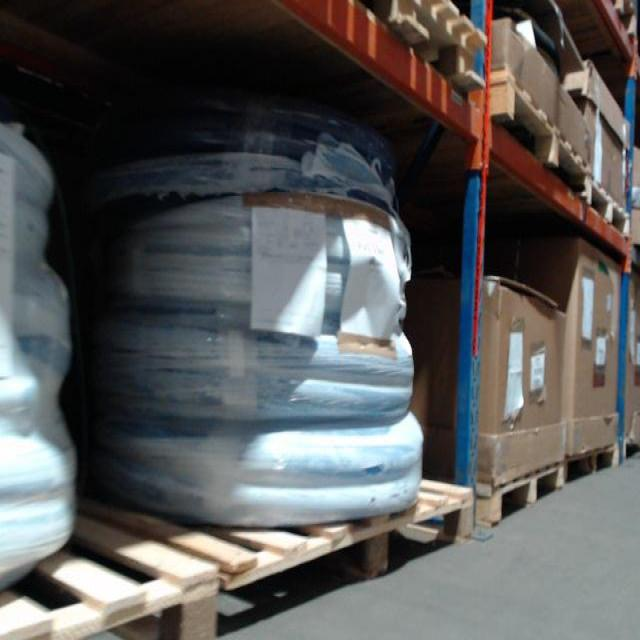pallet: (85, 470, 476, 635), (0, 498, 215, 635), (490, 67, 588, 203), (353, 3, 488, 98), (471, 457, 567, 532), (586, 167, 633, 247), (564, 438, 622, 486)
